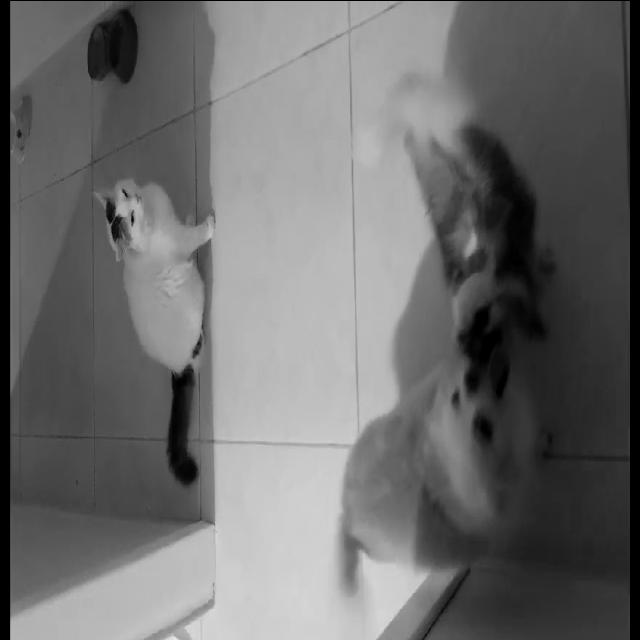Pedrita: (319, 94, 583, 362)
Simba: (76, 82, 222, 420)
Theo: (288, 320, 552, 600)
